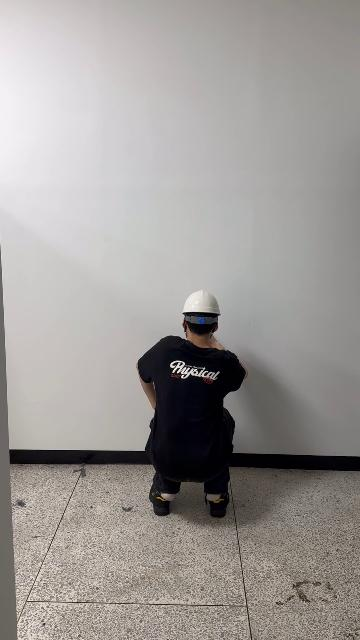helmet_worn: (181, 288, 221, 326)
shoe_worn: (149, 486, 173, 518), (208, 490, 233, 520)
vest_not_worn: (155, 338, 234, 484)
